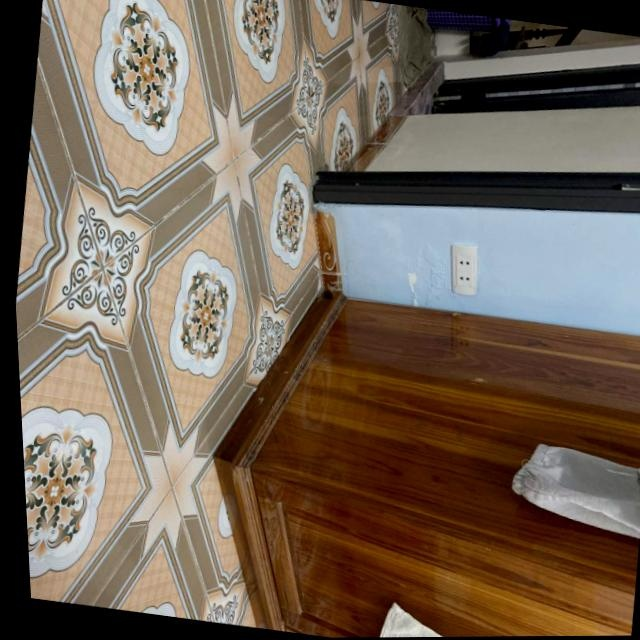outlet: (444, 242, 484, 297)
